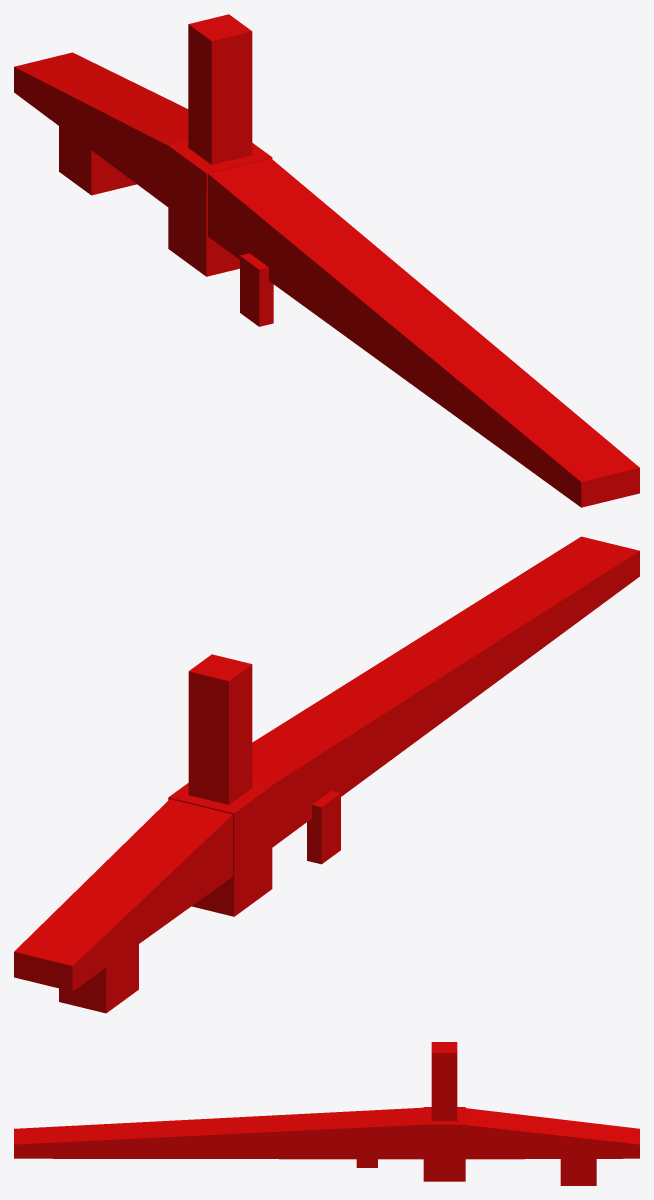
Rendered from SM_Bld_Crane_Top_01_Collision.fbx.
3 views of the same model, one above another, from view 1: azimuth 30°, elevation 25°; view 2: azimuth 150°, elevation 25°; view 3: azimuth 270°, elevation 25° (orthographic). The views are drawn at different scales.
Parts seen in each view (by area): view 1: SM_Bld_Crane_Top_01_Collision; view 2: SM_Bld_Crane_Top_01_Collision; view 3: SM_Bld_Crane_Top_01_Collision.
Part boxes in pixels (x1=…): SM_Bld_Crane_Top_01_Collision: x1=14, y1=14, x2=639, y2=507; SM_Bld_Crane_Top_01_Collision: x1=14, y1=536, x2=639, y2=1013; SM_Bld_Crane_Top_01_Collision: x1=14, y1=1042, x2=639, y2=1185.
Bounding box in the file's own units: 252 × 779 × 3353.
